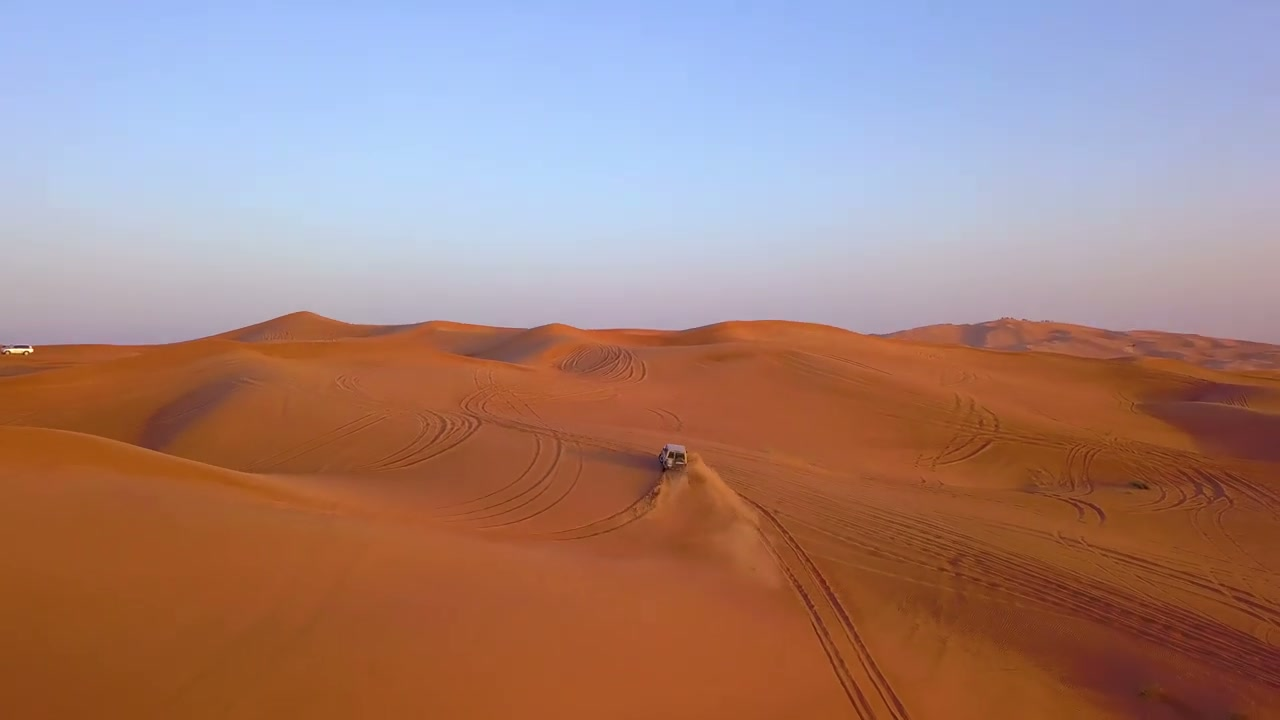vehicle_track: (787, 504, 1279, 688), (742, 496, 908, 719), (439, 369, 581, 528), (334, 374, 480, 471), (247, 412, 387, 471), (354, 409, 480, 471), (917, 394, 1001, 469), (1047, 442, 1106, 524), (557, 343, 647, 383), (779, 350, 873, 387), (646, 407, 683, 431)
